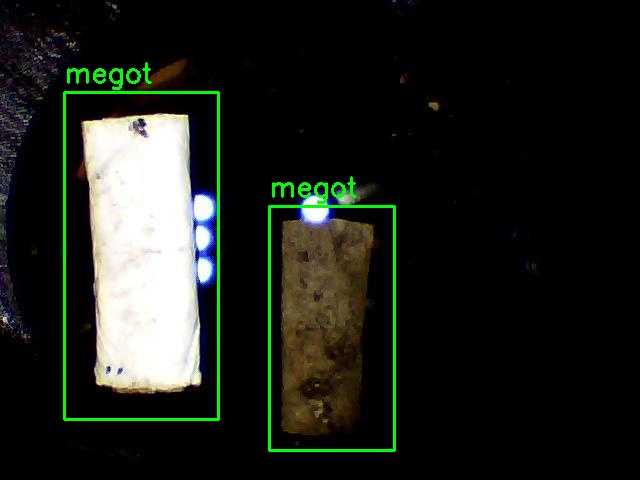megot: (64, 92, 218, 419), (269, 206, 394, 450)
